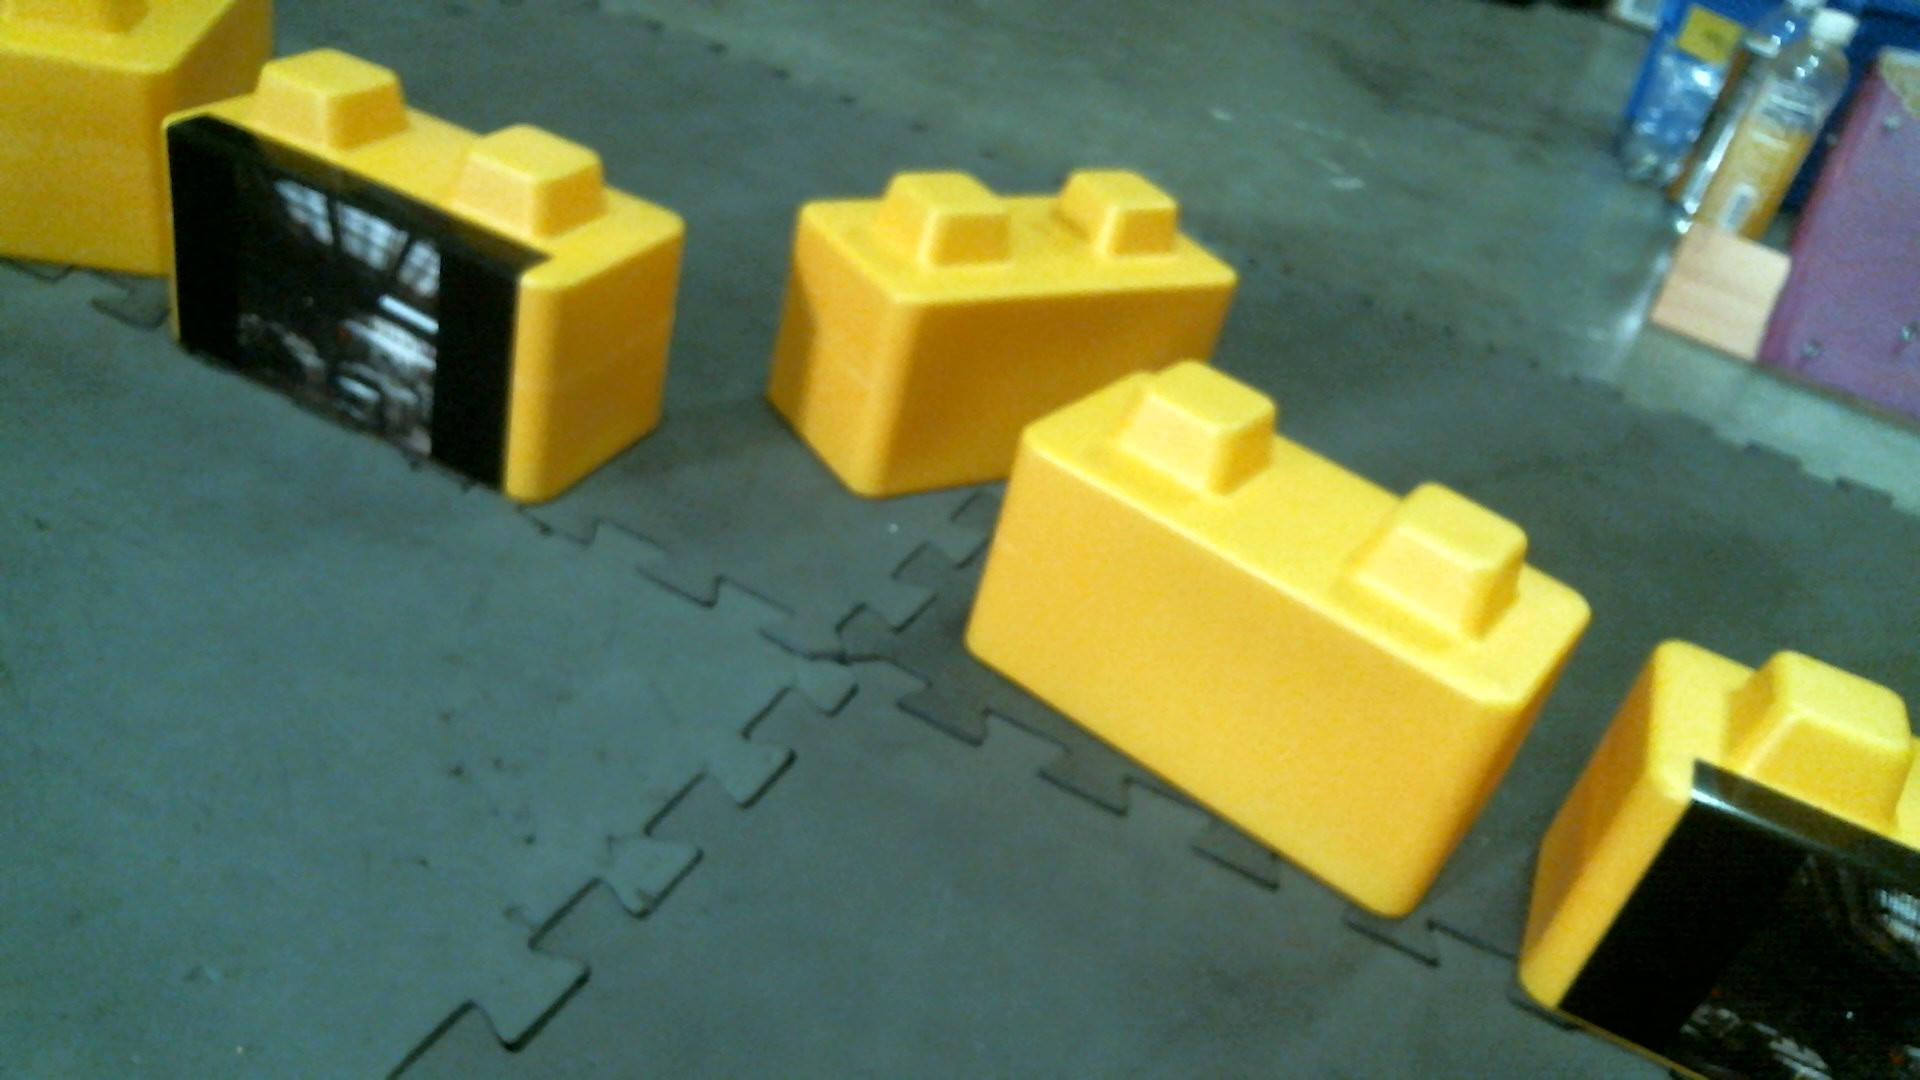skystone: (152, 41, 687, 514), (1516, 636, 1919, 1080)
stone: (959, 356, 1592, 919), (761, 164, 1240, 506)
